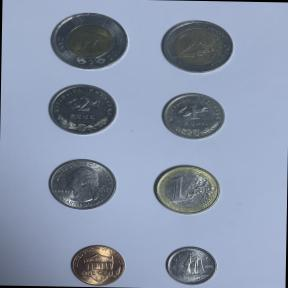coin: (45, 8, 133, 74), (155, 16, 239, 78), (148, 161, 225, 220), (43, 81, 122, 138), (45, 156, 121, 213), (66, 240, 130, 288), (160, 242, 221, 288)
